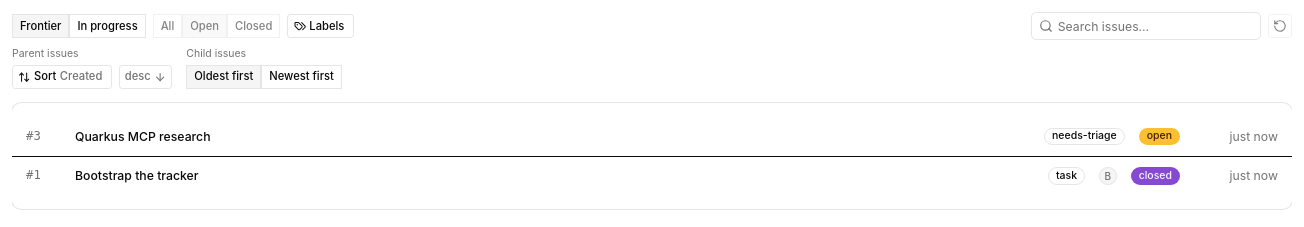
Test: IssueList › re-enables the status control at its current value when the work state is deselected
Expected: the text "Quarkus MCP research" is shown, [75,128,211,144]
What coordinates should you click on to do the following:
click the radio button labelled "Frontier"
I would click on:
 (41, 26)
Its box is [12,14,69,38].
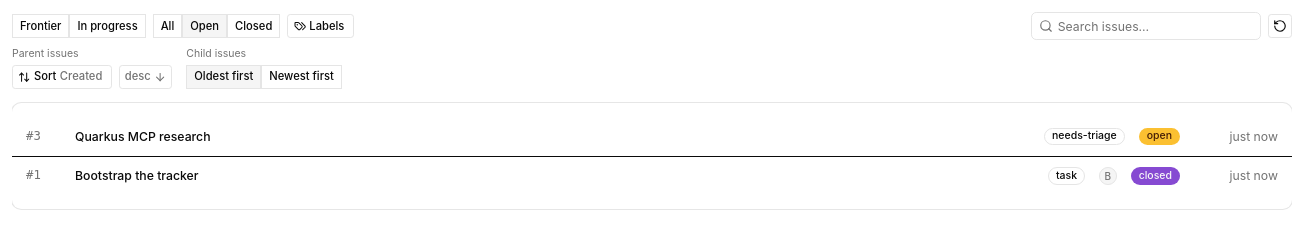
Expected: the radio button labelled "All" is enabled, [153,14,182,38]
Expected: the radio button labelled "Open" is enabled, [182,14,227,38]
Expected: the radio button labelled "Closed" is enabled, [227,14,280,38]
